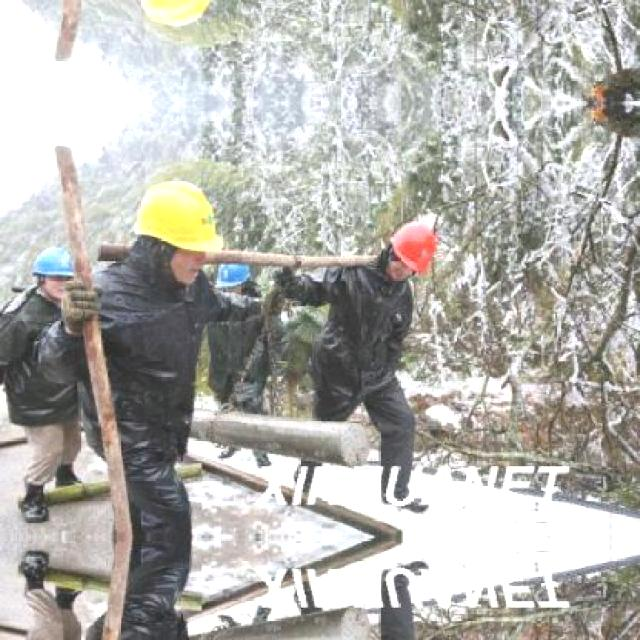hand_glove: (59, 280, 99, 334)
head_helmet: (132, 180, 226, 256), (386, 218, 436, 272), (31, 247, 78, 281), (213, 261, 251, 291)
person: (72, 173, 202, 640), (310, 222, 426, 514), (11, 252, 98, 528)
shoes: (18, 476, 53, 524)
